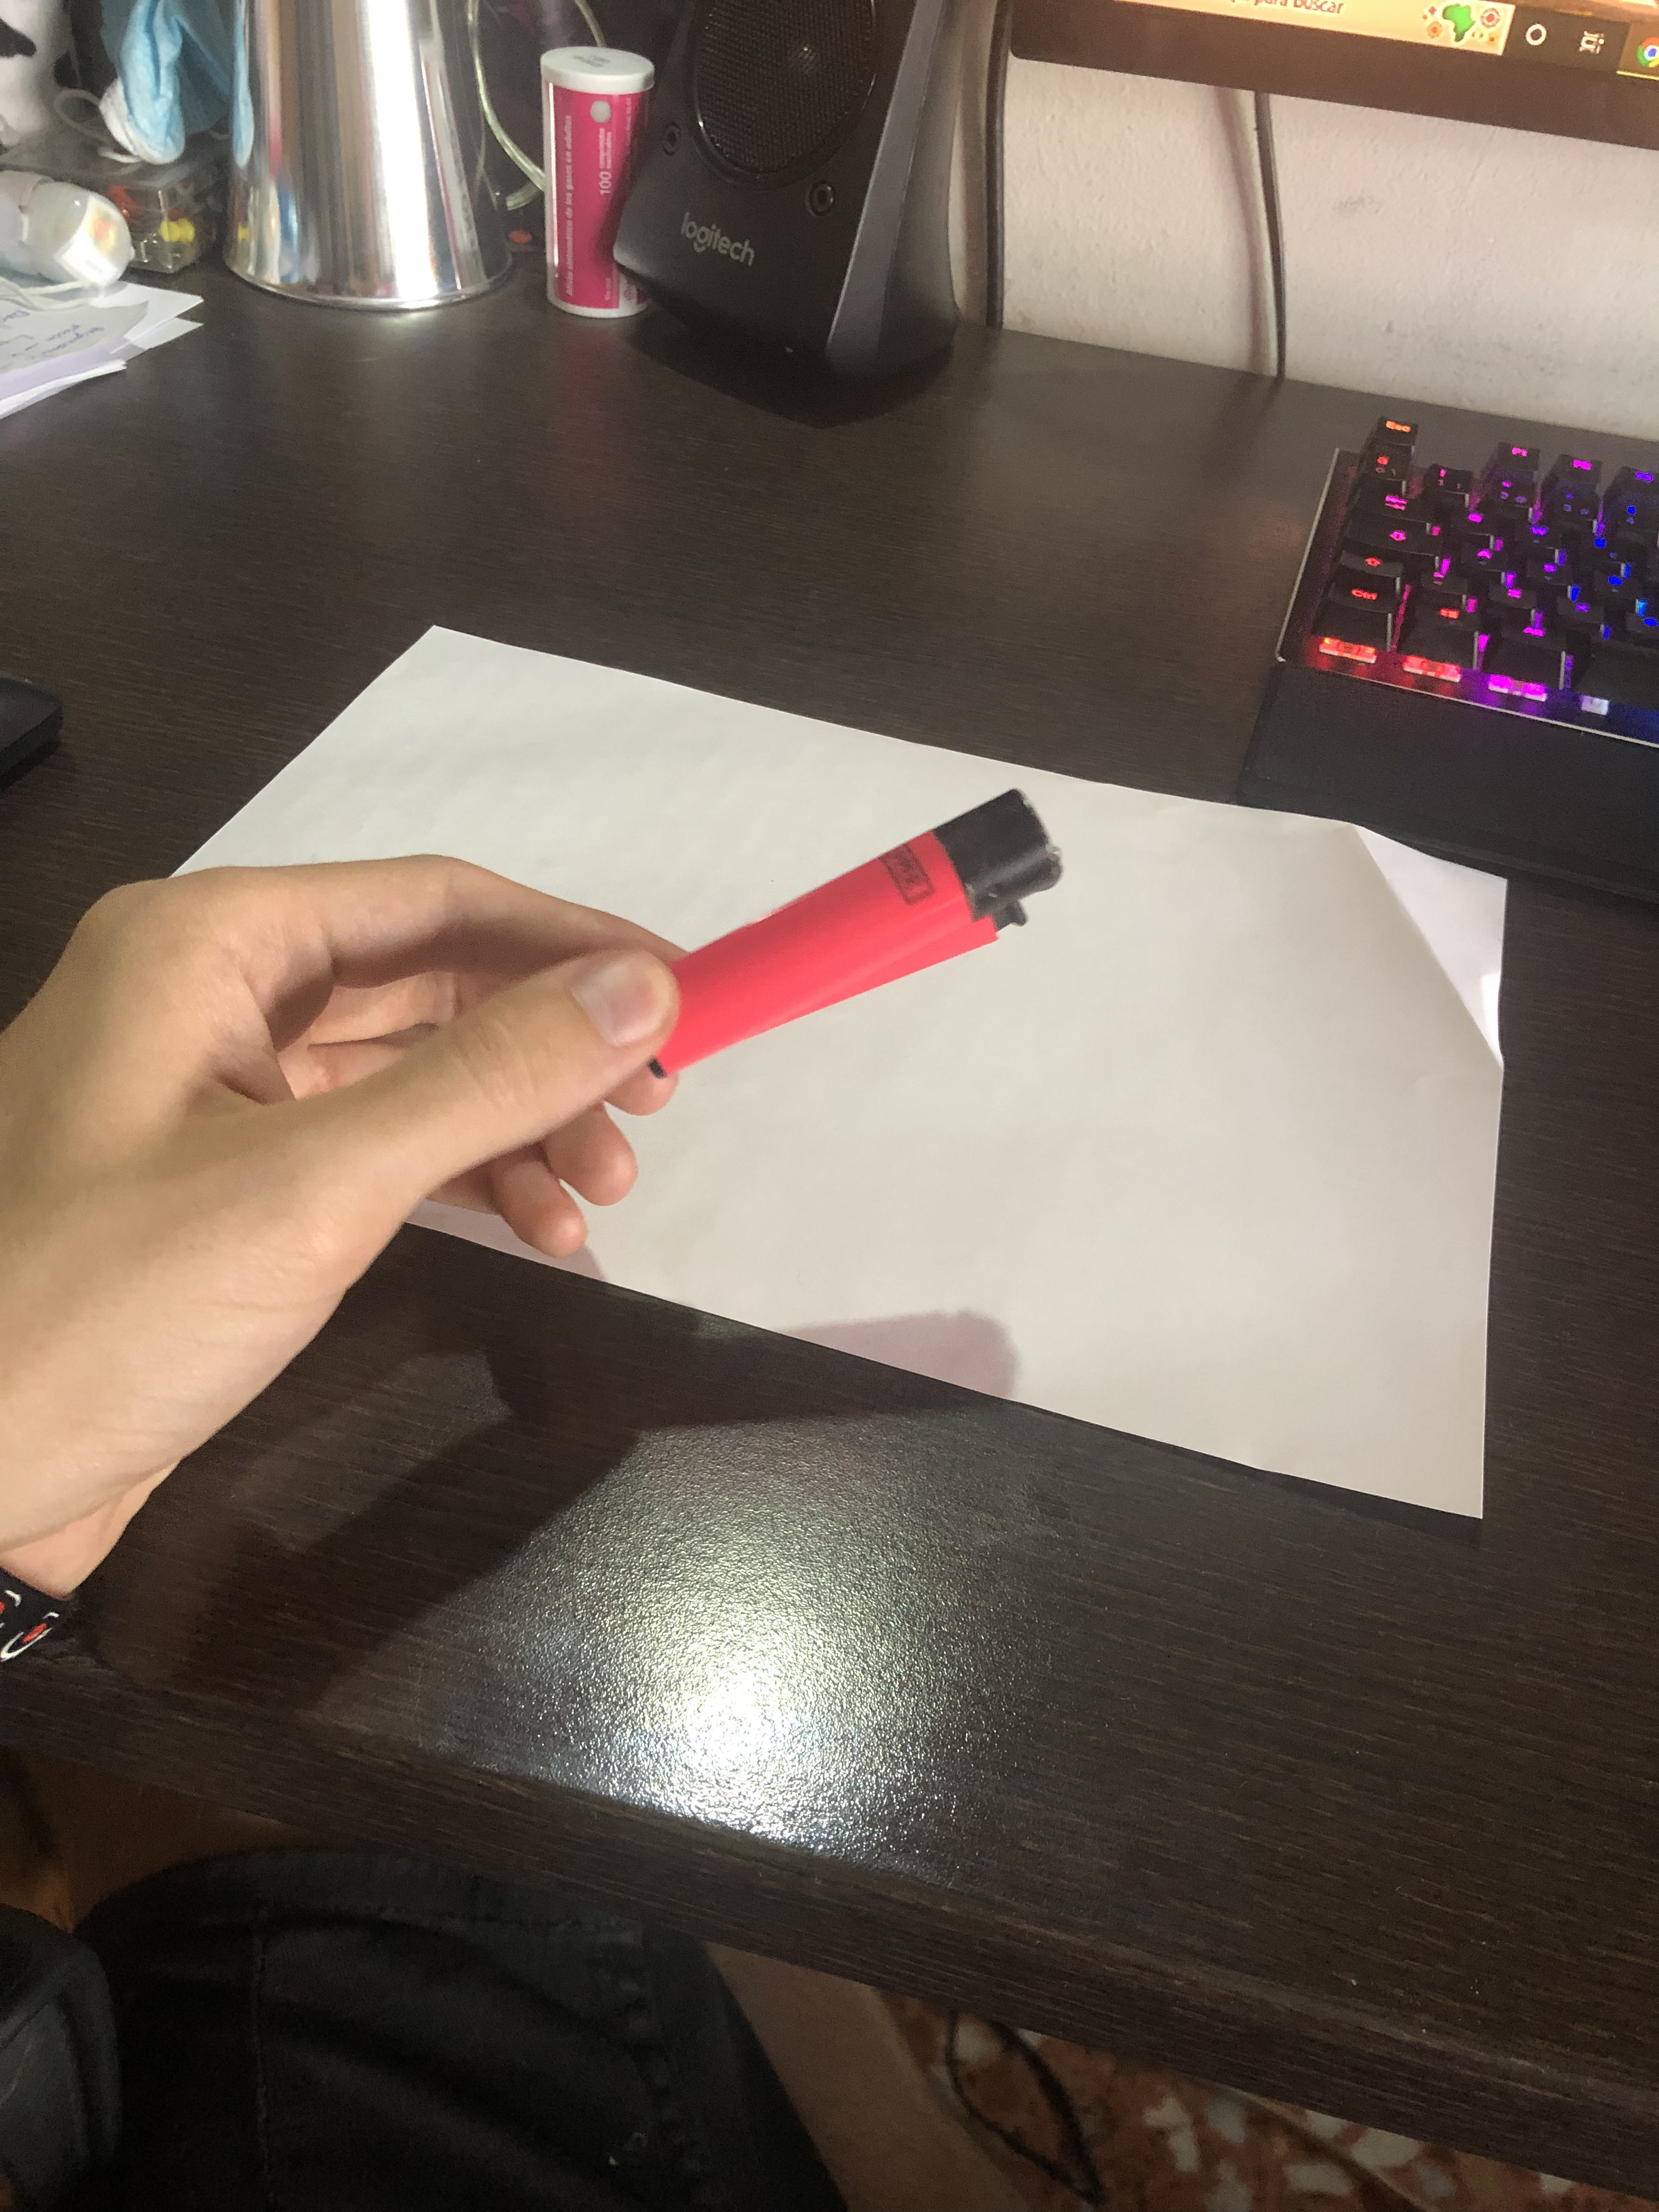Mechero: (631, 749, 1096, 1130)
